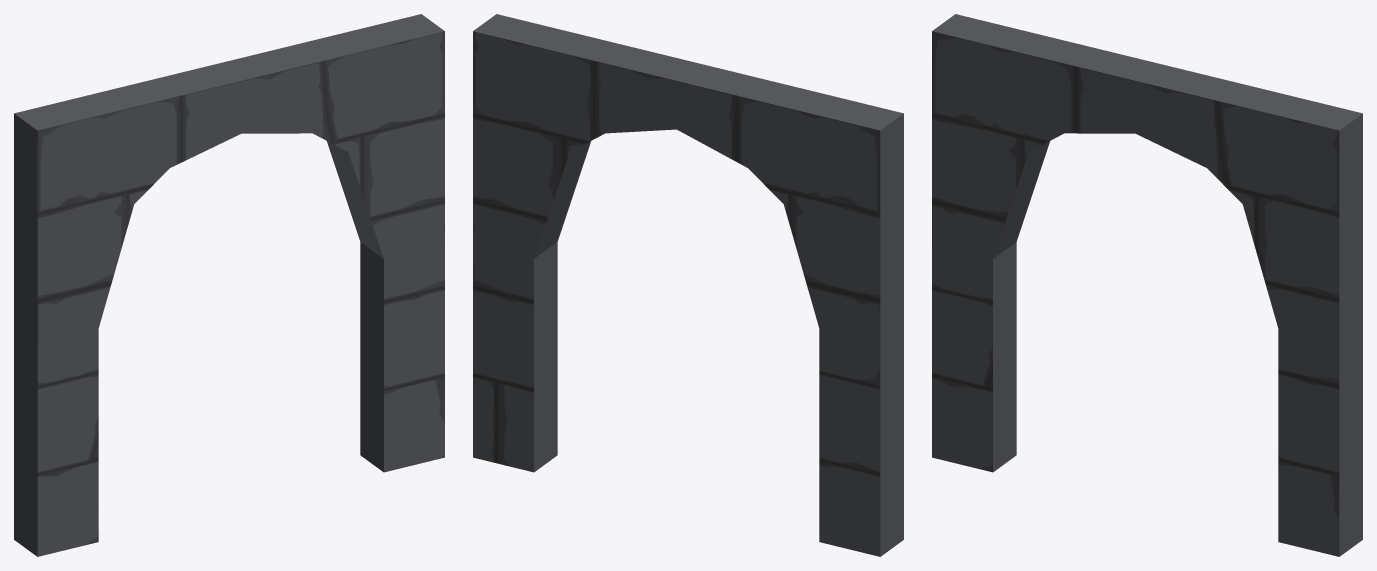
Rendered from castle_wall_arch.gltf.
3 renders of one model, left to right at view 1: azimuth 30°, elevation 25°; view 2: azimuth 150°, elevation 25°; view 3: azimuth 330°, elevation 25°, orthographic.
Visible parts, largest first — view 1: castle_wall_arch; view 2: castle_wall_arch; view 3: castle_wall_arch.
Part boxes in pixels (<box>): castle_wall_arch: <box>14,14,444,556</box>; castle_wall_arch: <box>473,14,903,556</box>; castle_wall_arch: <box>932,14,1362,556</box>.
Size of the model in its own units: 5 by 5 by 0.5.
Materials: 1 (1 with a texture image).
